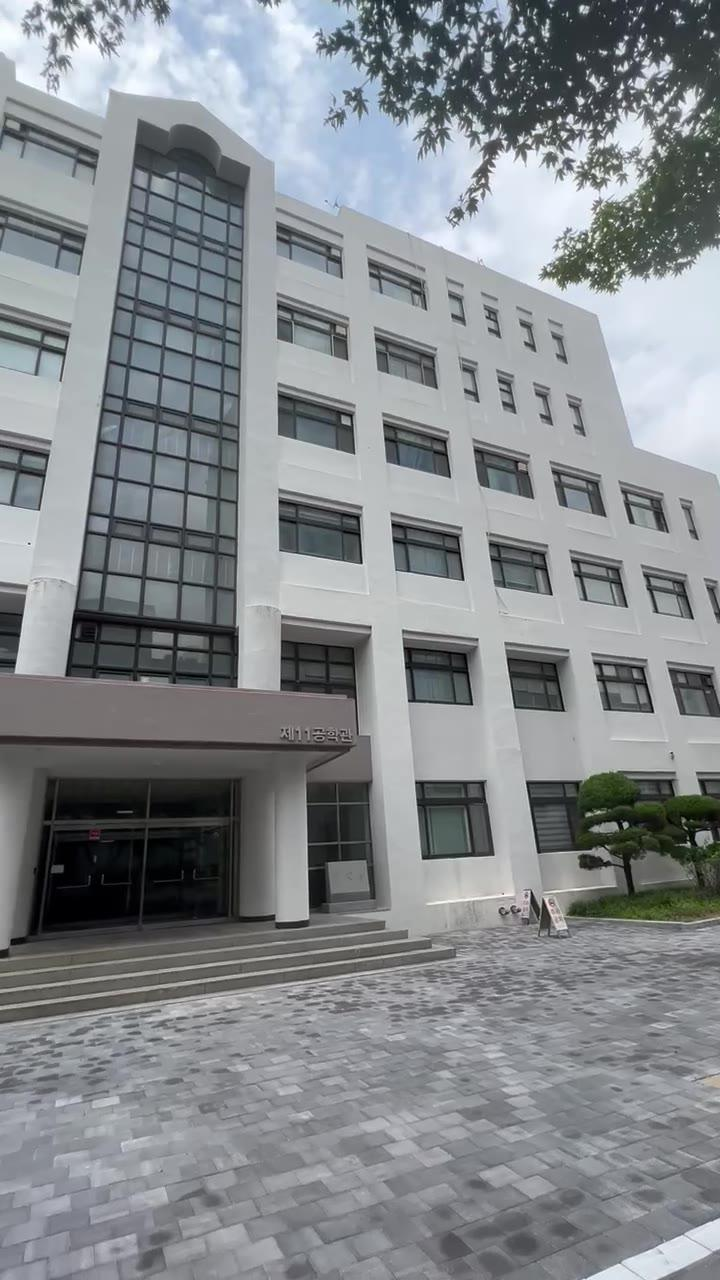building: (22, 98, 490, 924)
